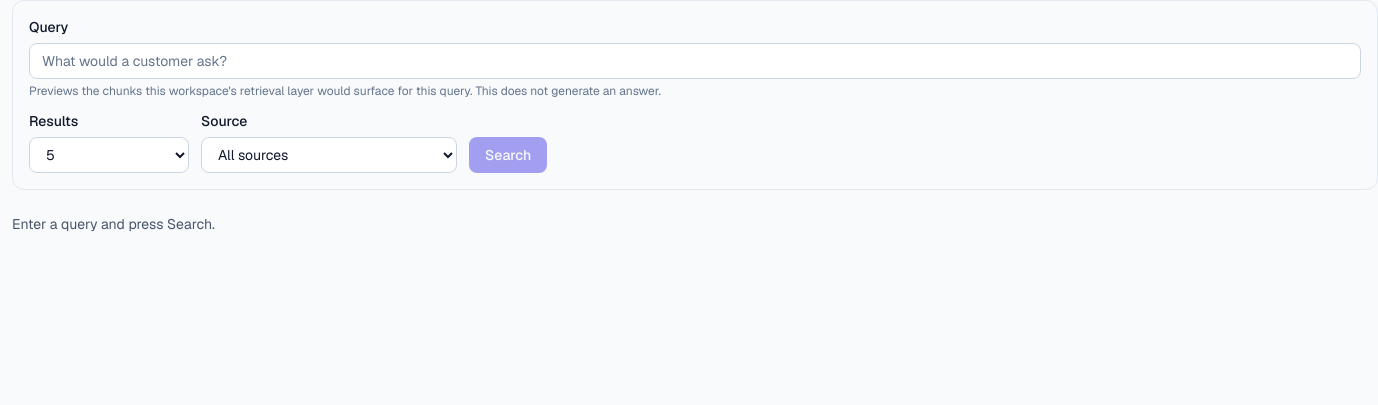
Scenario: KnowledgeSearchPanel › shows a real 'no results' state, distinct from an error
In the search field labelled "Query": (695, 61) x1=29 y1=43 x2=1361 y2=79, type "nothing matches this"
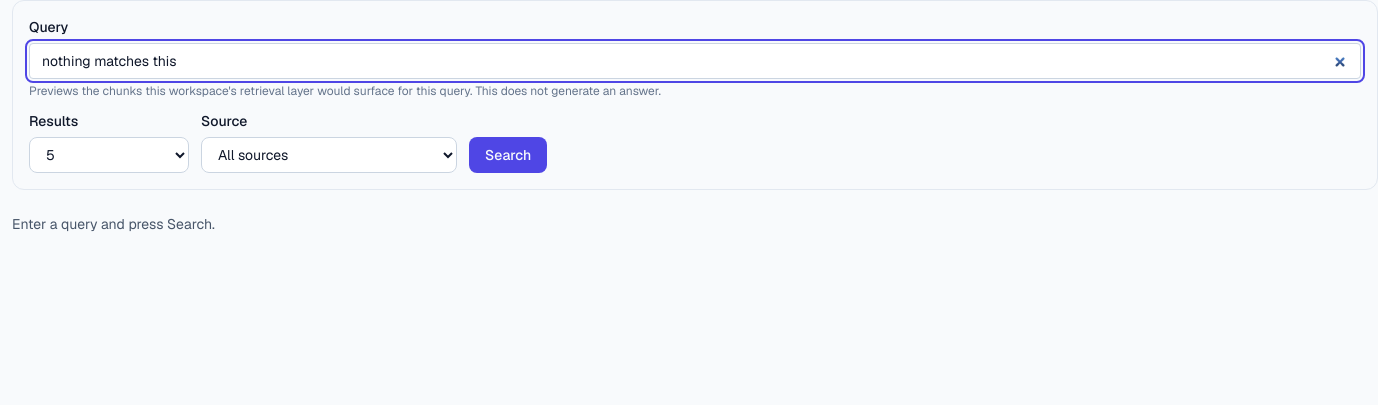
Click the button "Search": (508, 155) x1=469 y1=137 x2=547 y2=173
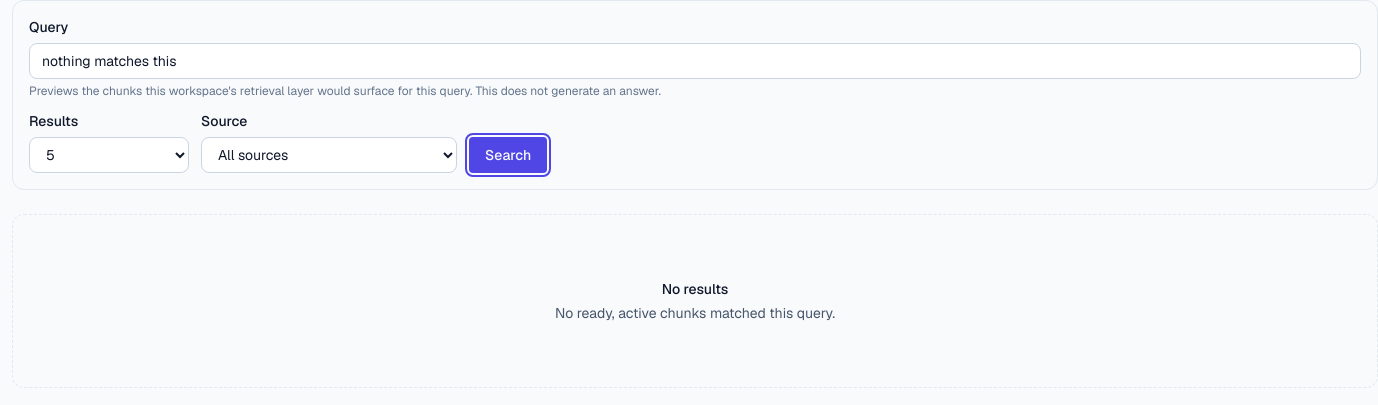
Expected: the text "No results" is shown, x1=662 y1=280 x2=728 y2=298
